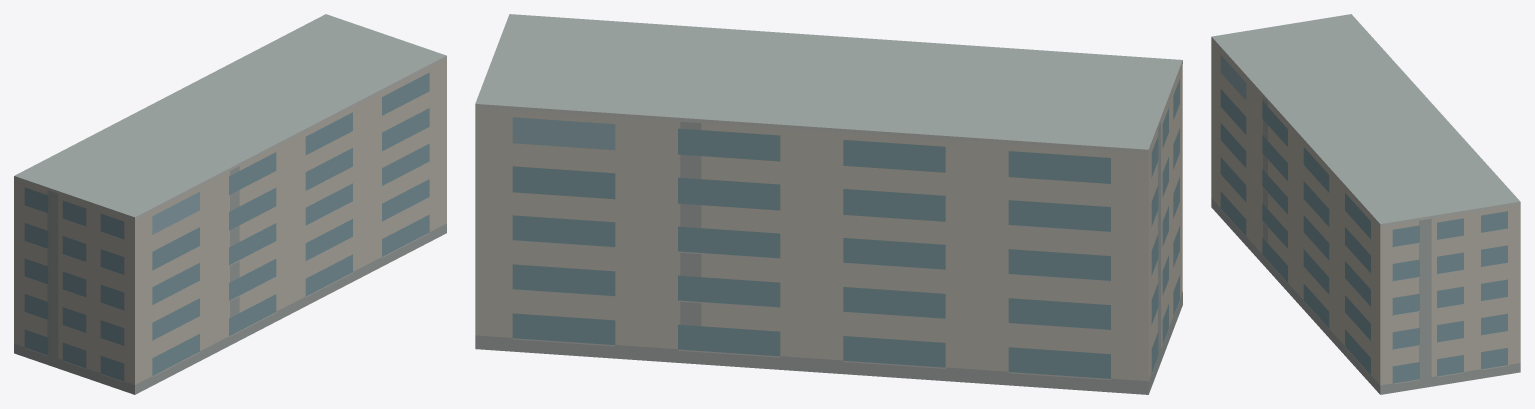
Rendered from residential-c2d95385-8449-445f-8c23-1032852ef37f.glb.
3 renders of one model, left to right at view 1: azimuth 30°, elevation 25°; view 2: azimuth 150°, elevation 25°; view 3: azimuth 270°, elevation 25°, orthographic. The views are drawn at different scales.
Parts seen in each view (by area): view 1: residential-c2d95385-8449-445f-8c23-1032852ef37f.tmp; view 2: residential-c2d95385-8449-445f-8c23-1032852ef37f.tmp; view 3: residential-c2d95385-8449-445f-8c23-1032852ef37f.tmp.
Boxes of the visible parts, x1,y1,x2,y2 form: residential-c2d95385-8449-445f-8c23-1032852ef37f.tmp: (14, 14, 446, 394); residential-c2d95385-8449-445f-8c23-1032852ef37f.tmp: (475, 14, 1182, 394); residential-c2d95385-8449-445f-8c23-1032852ef37f.tmp: (1211, 14, 1520, 394).
Size of the model in its own units: 40.26 by 15.25 by 25.02.
